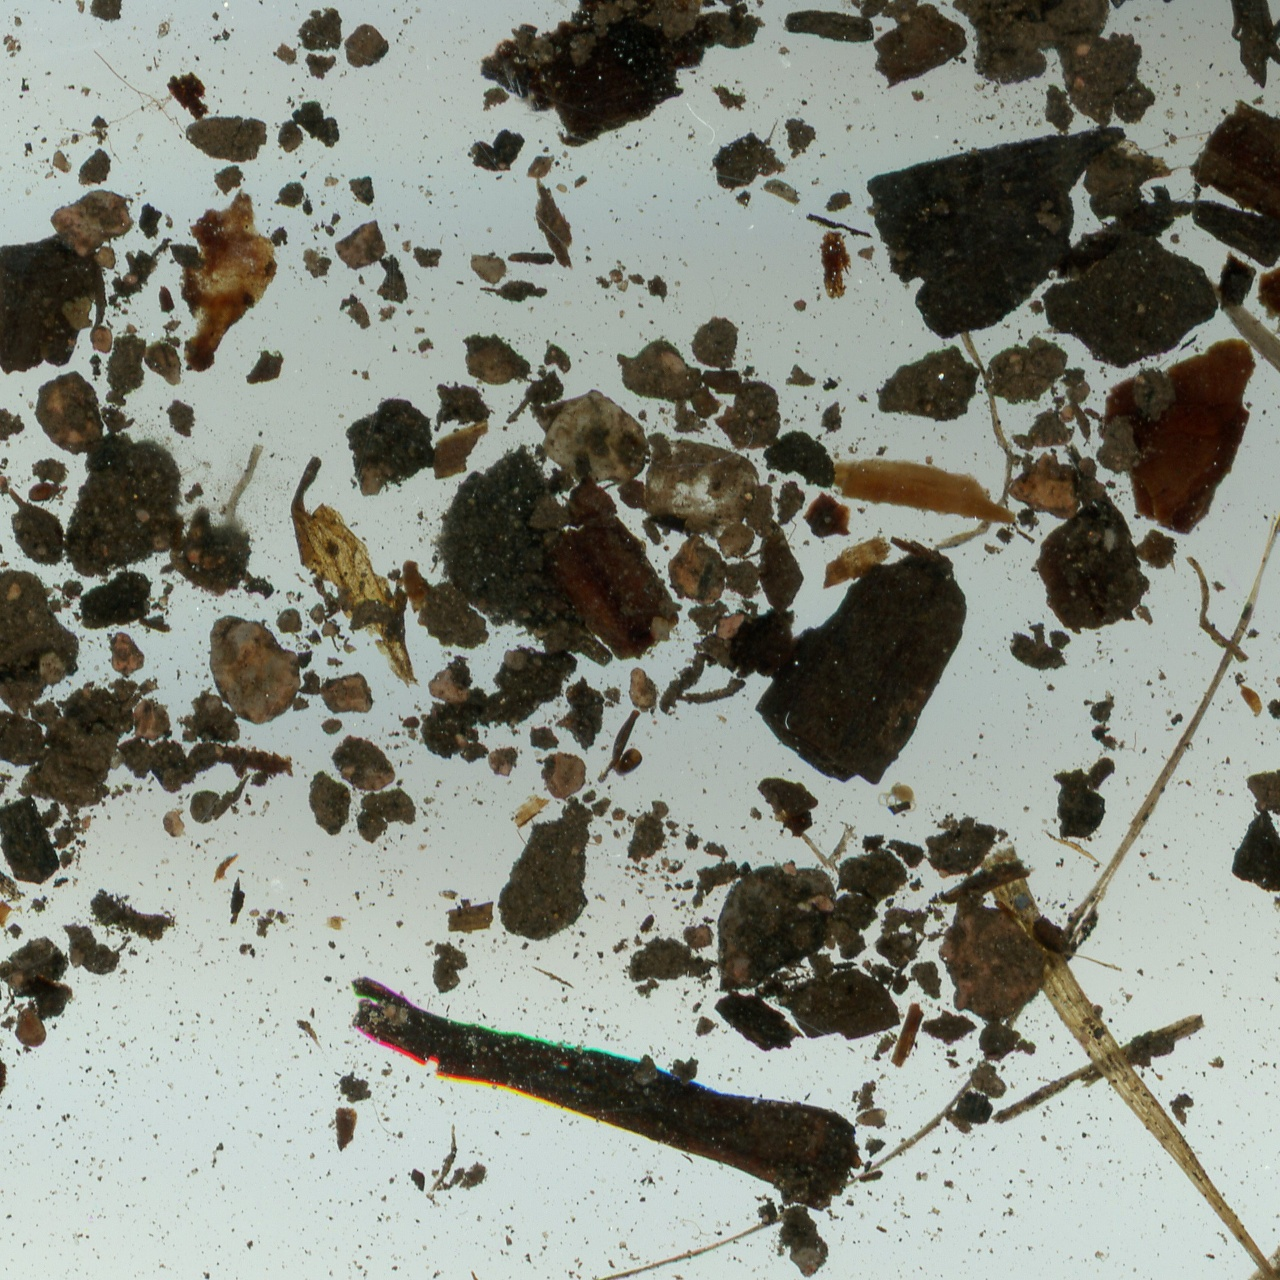arthropod: (24, 479, 68, 512), (878, 782, 919, 817)
